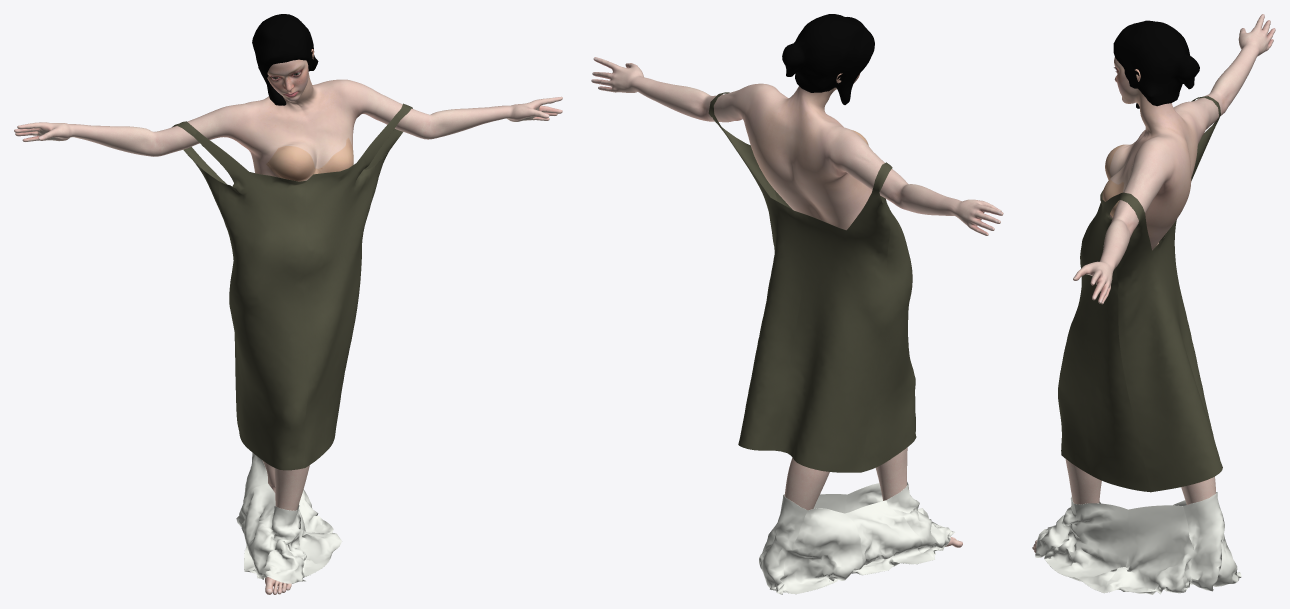
The model's file is Dynamic.obj.
3 renders of one model, left to right at view 1: azimuth 30°, elevation 25°; view 2: azimuth 150°, elevation 25°; view 3: azimuth 270°, elevation 25°, orthographic. The views are drawn at different scales.
Size of the model in its own units: 1601 by 1717 by 679.
